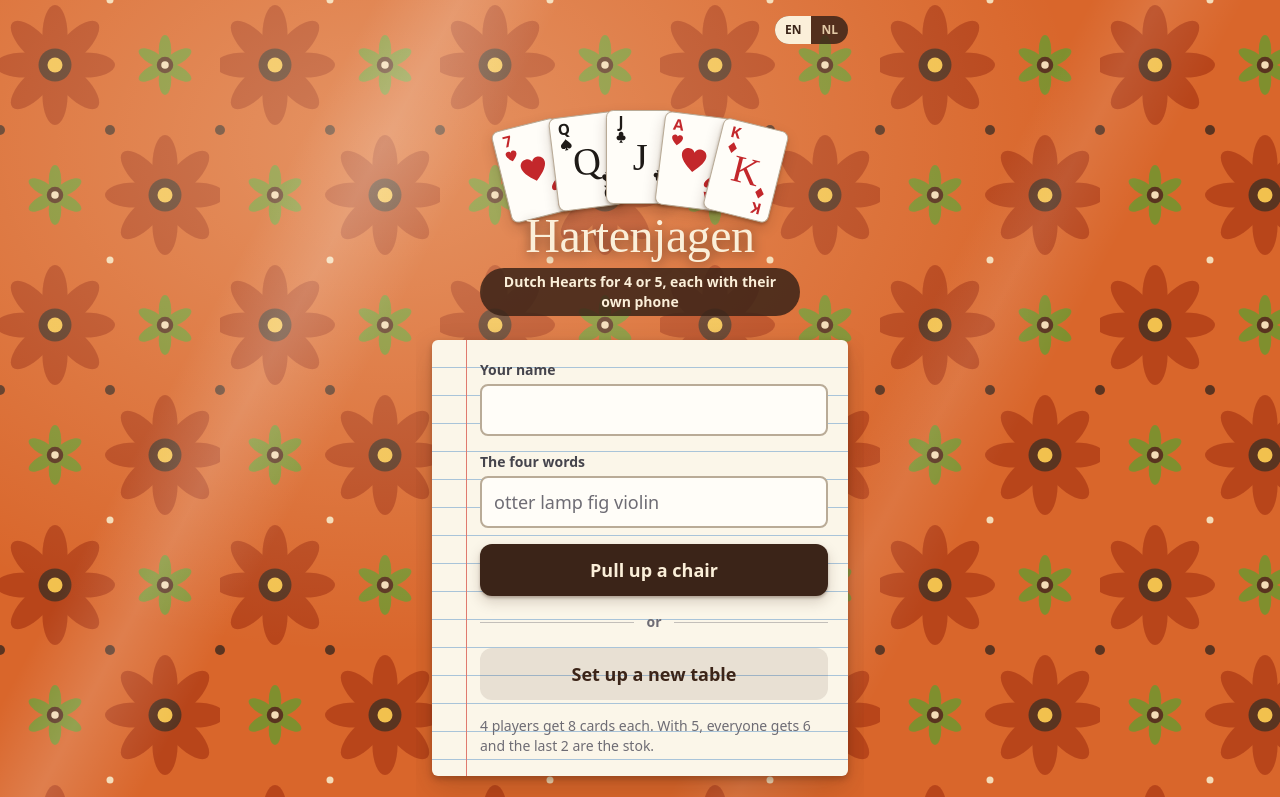
Test: the home form › names a misspelled code word instead of looking for the table
Type "Anna" into the field labelled "Your name" at (654, 410), box x1=480 y1=384 x2=828 y2=436
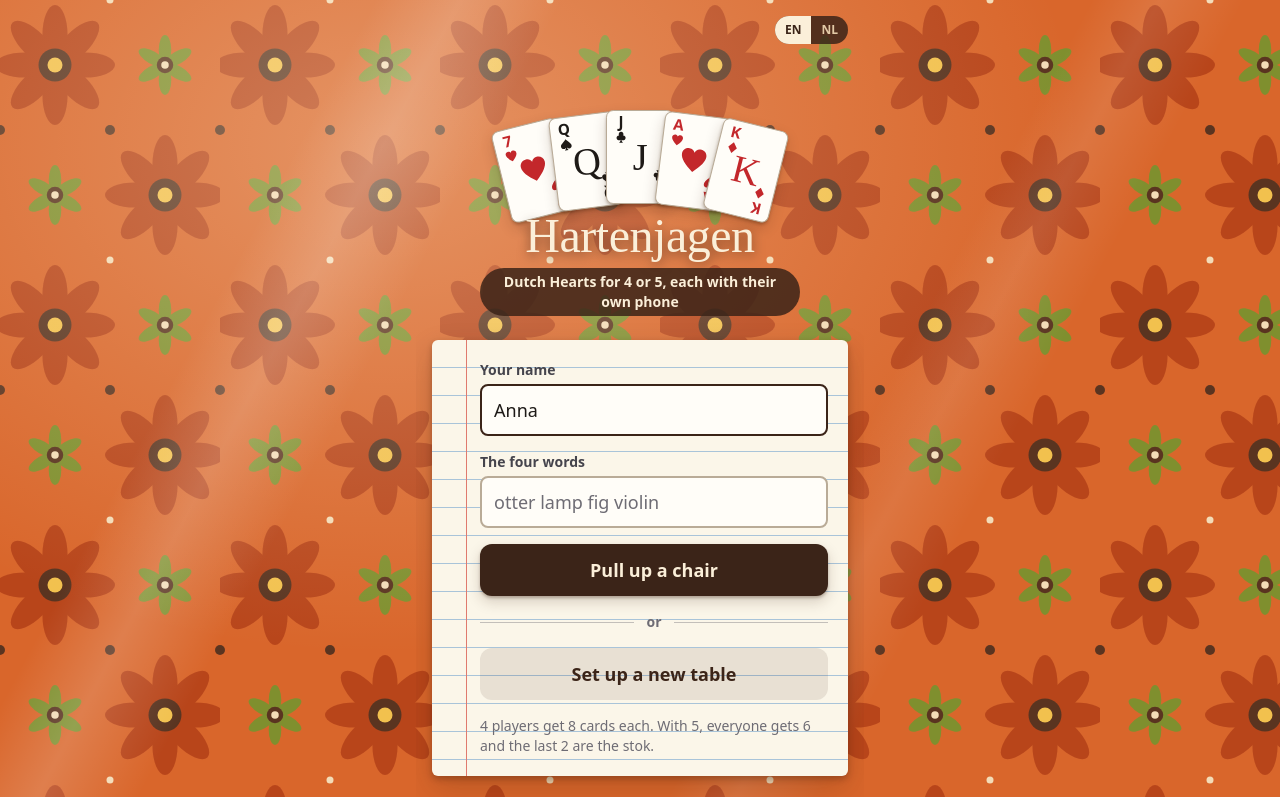
Type "water book echo windoww" into the field labelled "The four words" at (654, 502), box x1=480 y1=476 x2=828 y2=528
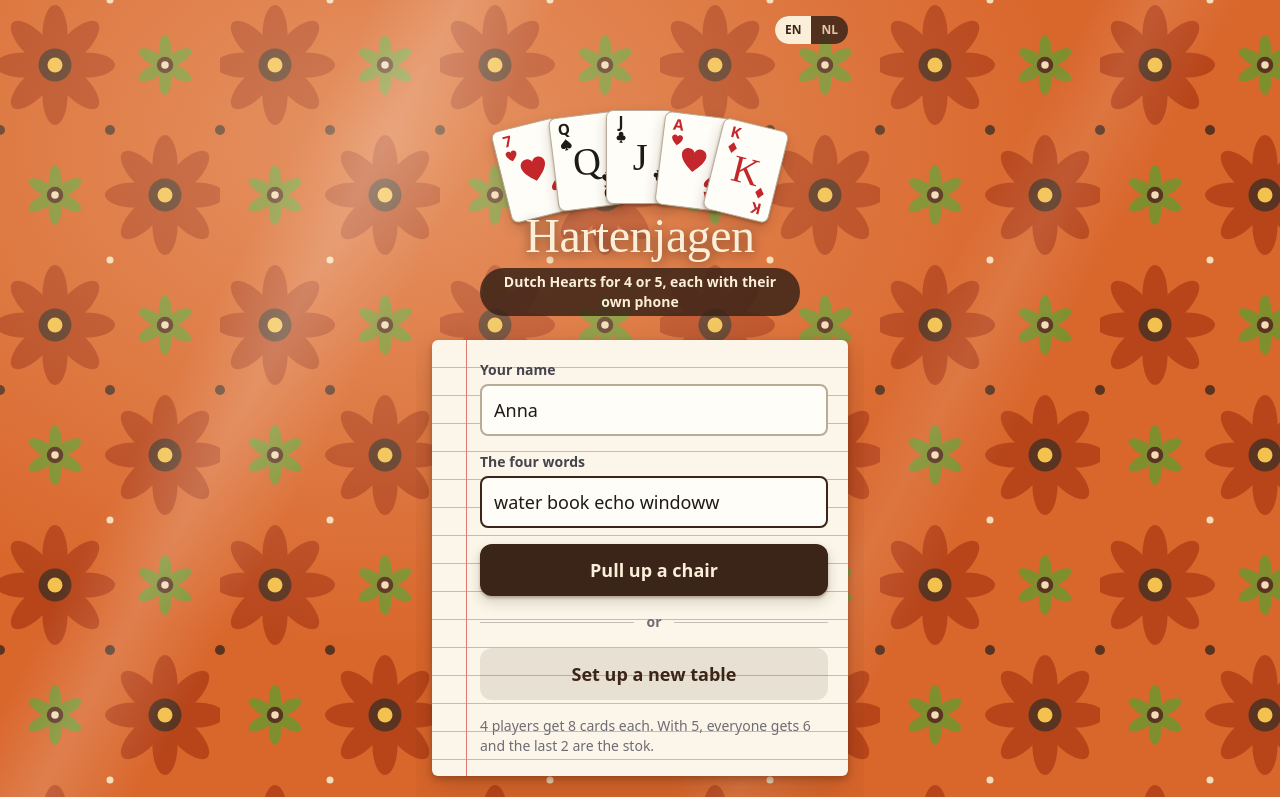
Click the button "Pull up a chair" at (654, 570), box x1=480 y1=544 x2=828 y2=596
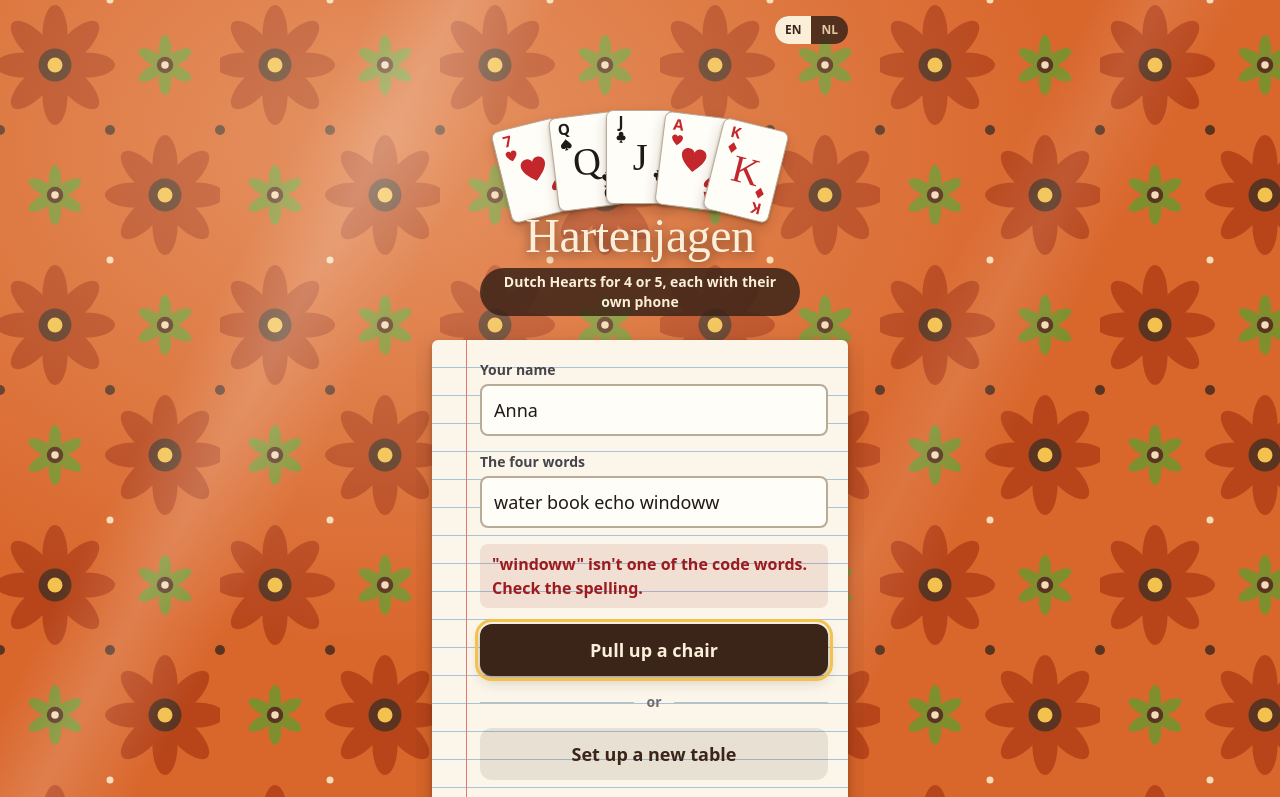
Check: the message shows "windoww", box x1=492 y1=553 x2=807 y2=599
